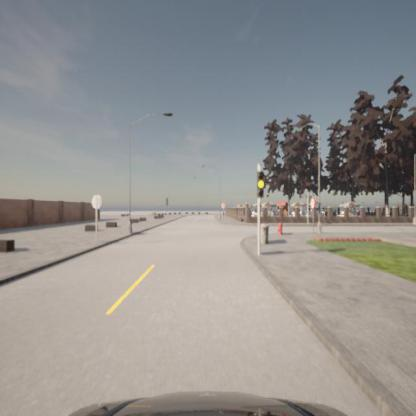traffic_light_orange: (257, 170, 266, 200)
